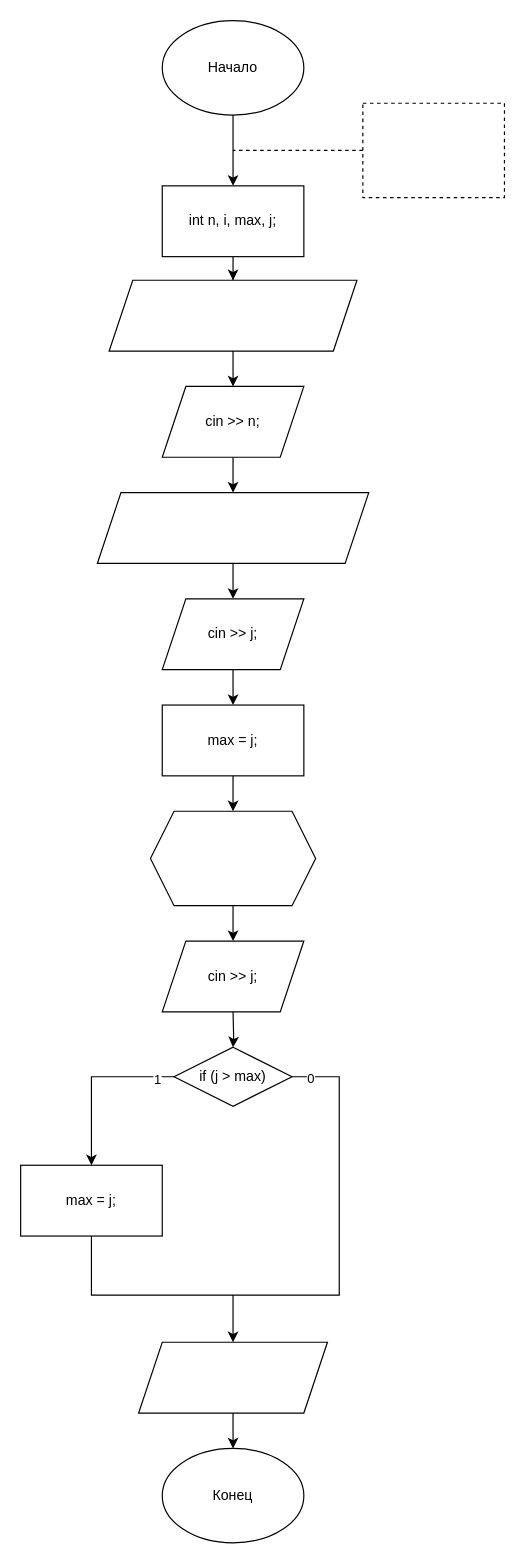
Some shapes in this 525 by 1563 pixel diagram are drawn without their labels. Each missing label, with the box of its shape:
#include<iostream> using namespace std; int main(){ setlocale(LC_ALL, "RUS");: (362, 102, 504, 198)
cout << "Введите количество элементов массива: ";: (108, 279, 357, 351)
cout << "Максимальное число = " << max;: (137, 1341, 327, 1413)
cout << "Последовательно введите элементы массива: ";: (96, 491, 369, 563)
for (i = n - 1; i > 0; i--): (149, 810, 316, 906)
